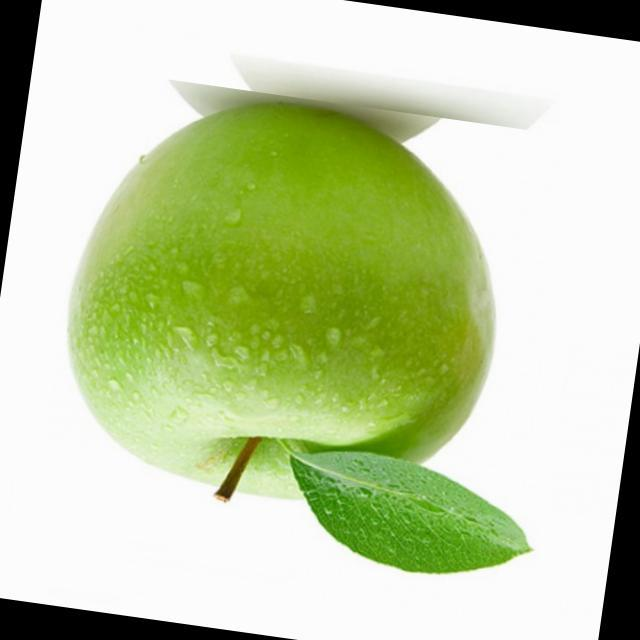Green Apple: (67, 100, 498, 502), (288, 449, 533, 575)
